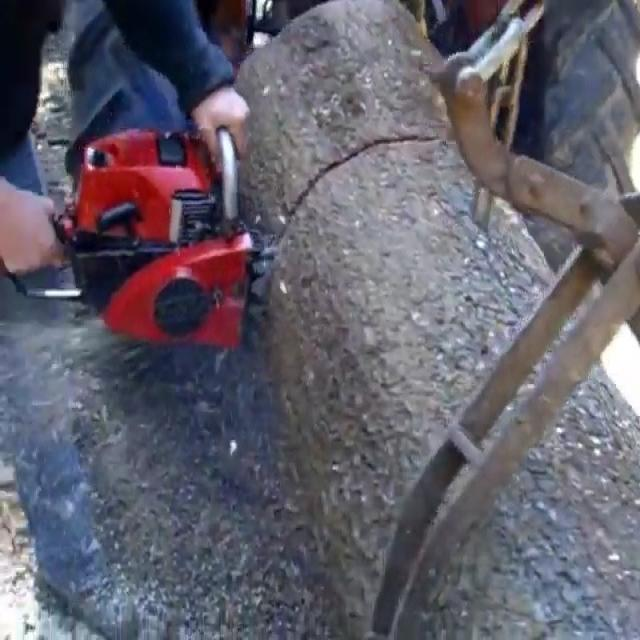Chainsaw: (43, 111, 281, 358)
